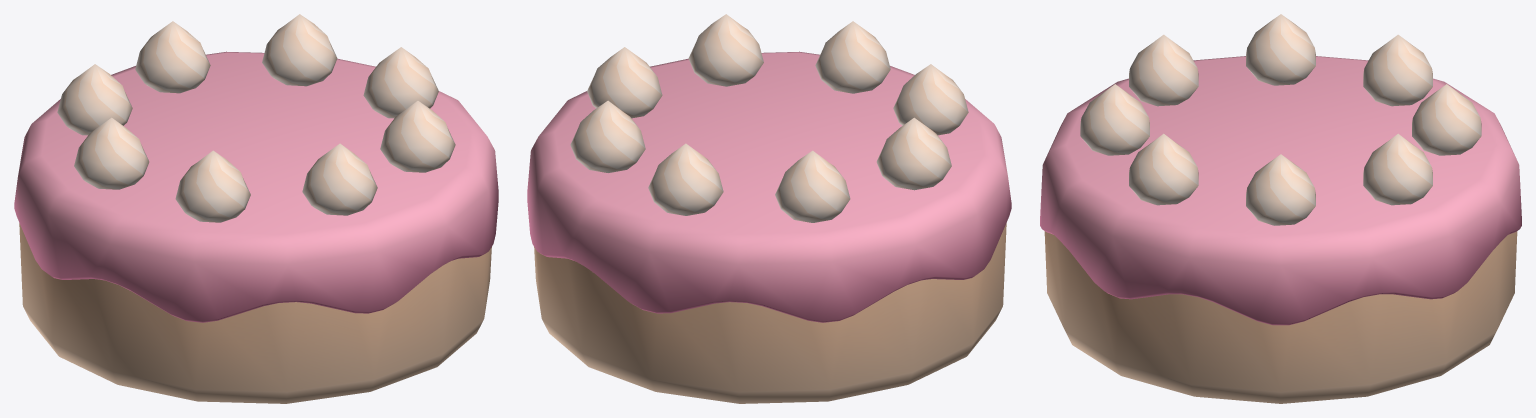
The model's file is Cake.obj.
3 renders of one model, left to right at view 1: azimuth 30°, elevation 25°; view 2: azimuth 150°, elevation 25°; view 3: azimuth 270°, elevation 25°, orthographic.
Visible parts, largest first — view 1: cake_strawberry; view 2: cake_strawberry; view 3: cake_strawberry.
Part boxes in pixels (<box>): cake_strawberry: <box>14,14,498,403</box>; cake_strawberry: <box>527,14,1011,403</box>; cake_strawberry: <box>1040,14,1521,403</box>.
Size of the model in its own units: 1.22 by 0.6442 by 1.22.
